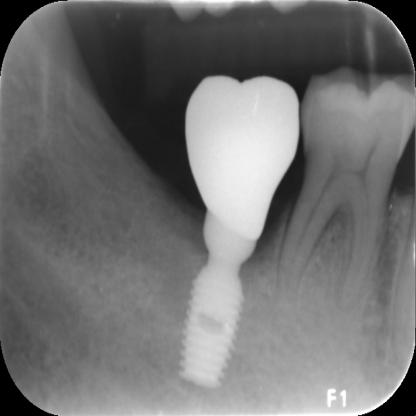Bicon: (179, 254, 246, 391)
